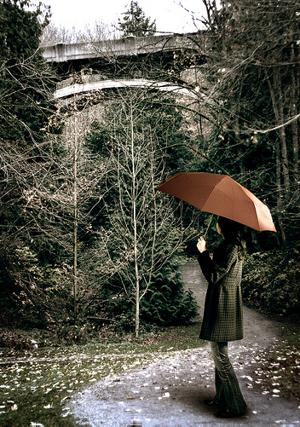person: (197, 216, 248, 418)
